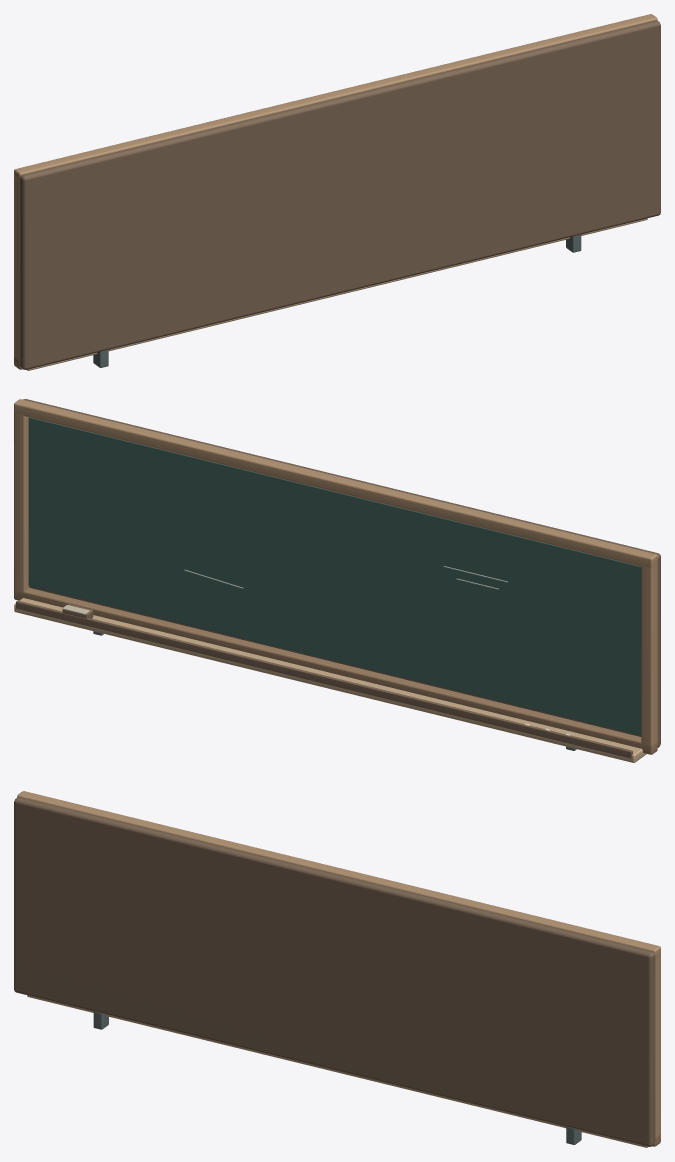
The model's file is classroom_blackboard.glb.
The picture shows the model from 3 angles, top to bottom: view 1: azimuth 30°, elevation 25°; view 2: azimuth 150°, elevation 25°; view 3: azimuth 330°, elevation 25°; orthographic projection.
Visible parts, largest first — view 1: Blackboard_backing, Blackboard_frame_top, Blackboard_chalk_tray, Blackboard_frame_side; view 2: Blackboard_slate_surface, Blackboard_frame_top, Blackboard_frame_bottom, Blackboard_chalk_tray, Blackboard_tray_lip, Blackboard_backing, Blackboard_frame_side, Blackboard_frame_side.001; view 3: Blackboard_backing, Blackboard_frame_top, Blackboard_chalk_tray, Blackboard_frame_side.001.
Boxes of the visible parts, box(x1,y1,x2,y2) form: Blackboard_backing: box(19, 20, 660, 369); Blackboard_frame_top: box(14, 14, 657, 182); Blackboard_chalk_tray: box(27, 218, 647, 370); Blackboard_frame_side: box(14, 179, 19, 360); Blackboard_slate_surface: box(28, 417, 641, 735); Blackboard_frame_top: box(14, 399, 657, 567); Blackboard_frame_bottom: box(14, 588, 657, 754); Blackboard_chalk_tray: box(14, 598, 646, 762); Blackboard_tray_lip: box(16, 600, 632, 758); Blackboard_backing: box(23, 399, 660, 747); Blackboard_frame_side: box(641, 564, 657, 745); Blackboard_frame_side.001: box(14, 412, 29, 592); Blackboard_backing: box(14, 797, 655, 1146); Blackboard_frame_top: box(17, 791, 660, 959); Blackboard_chalk_tray: box(27, 995, 647, 1147); Blackboard_frame_side.001: box(655, 956, 660, 1137).
Bounding box in the file's own units: 5 × 1.59 × 0.275.
